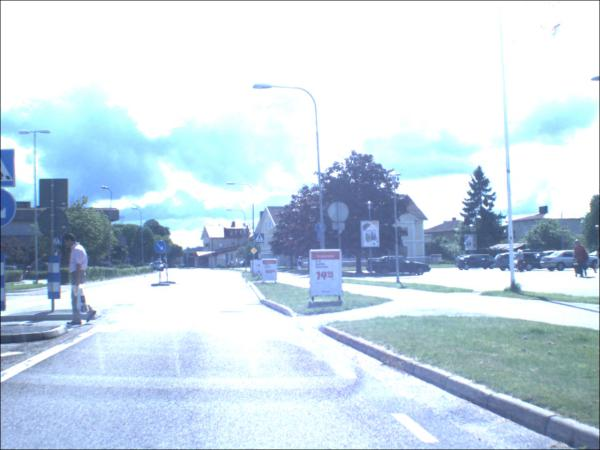PASS_RIGHT_SIDE: (2, 190, 18, 229), (155, 242, 168, 255)
PEDESTRIAN_CROSSING: (3, 151, 17, 189), (256, 235, 266, 245)
PRIORITY_ROAD: (252, 248, 259, 256)
